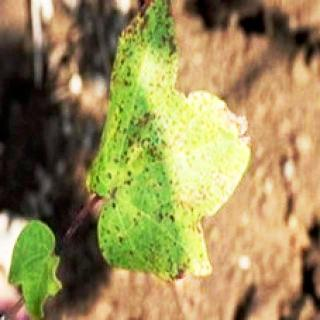leaf spot: (106, 4, 247, 280)
